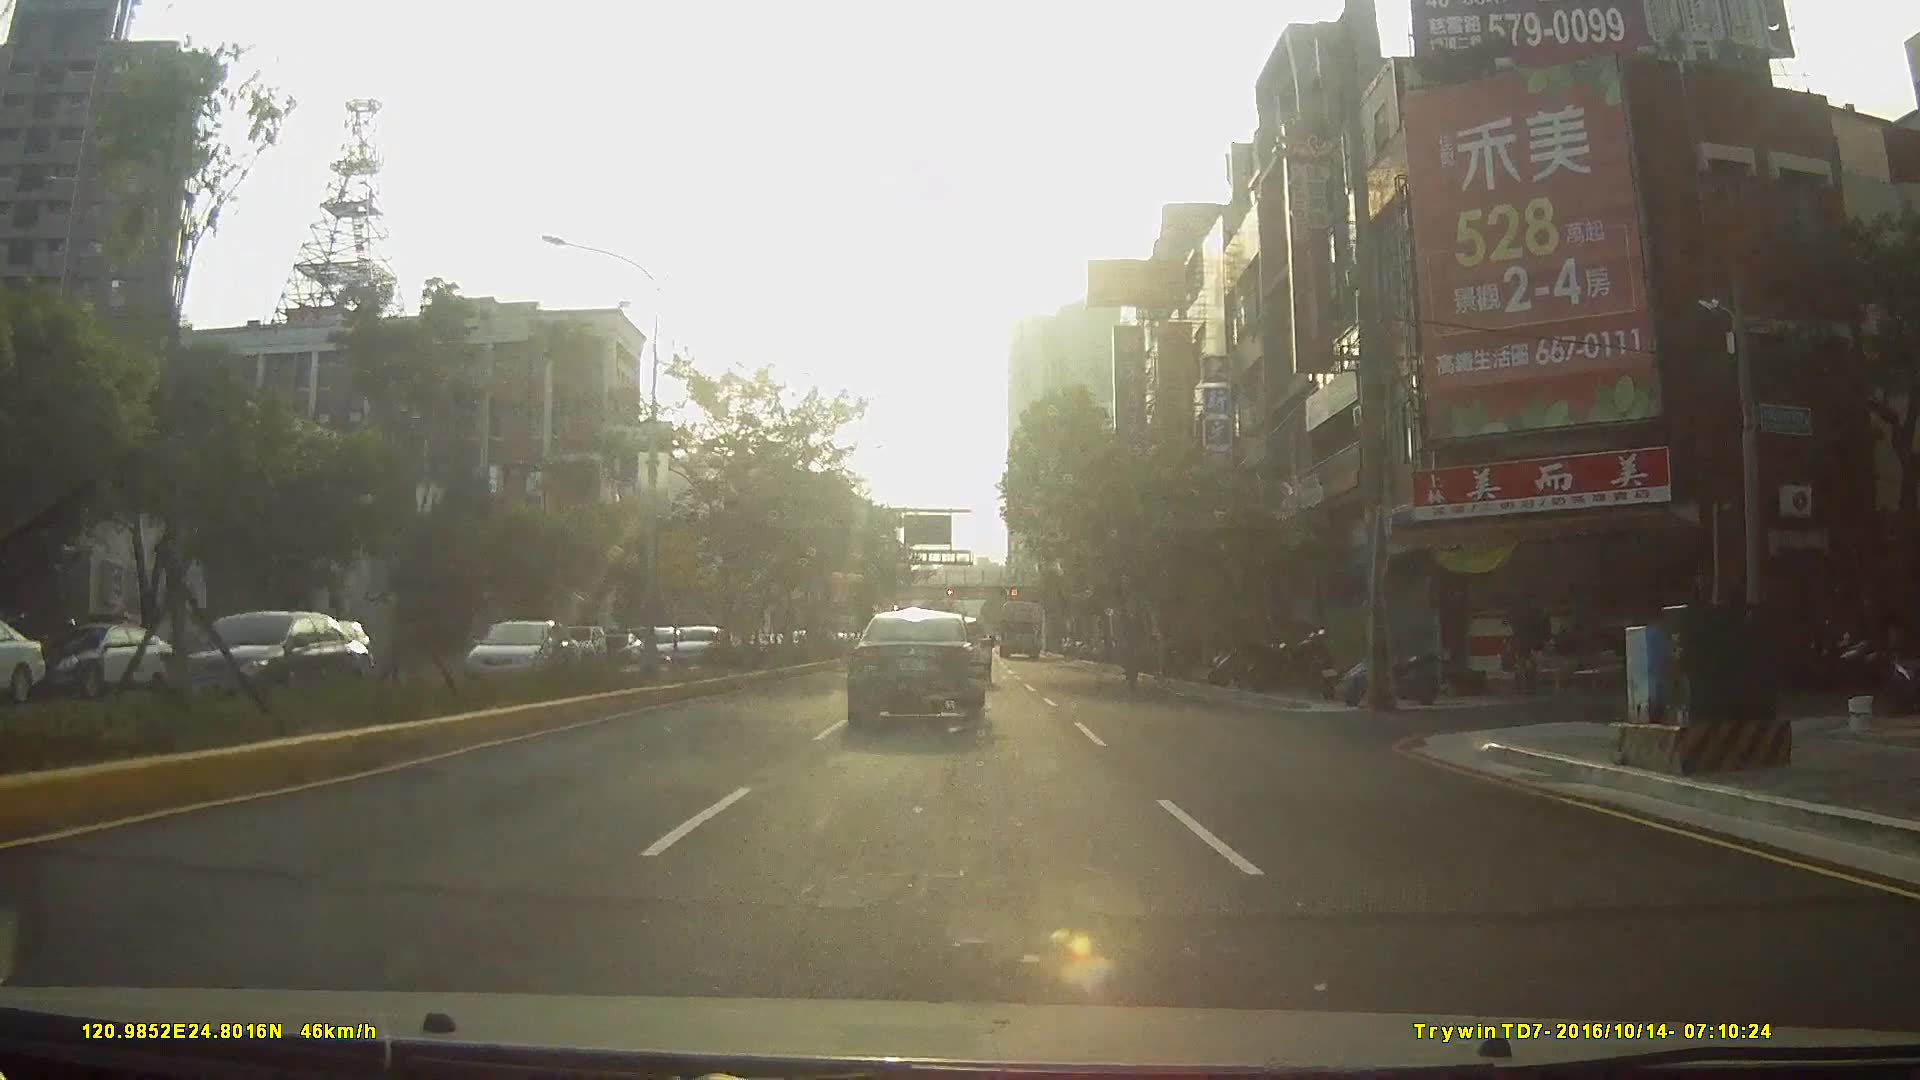pedestrian: (1118, 610, 1154, 687)
vehicle: (161, 605, 375, 715), (844, 606, 988, 730), (450, 606, 574, 707), (21, 620, 171, 701), (277, 617, 369, 687), (649, 623, 733, 670), (0, 624, 33, 707), (998, 597, 1043, 658), (555, 622, 605, 667)
